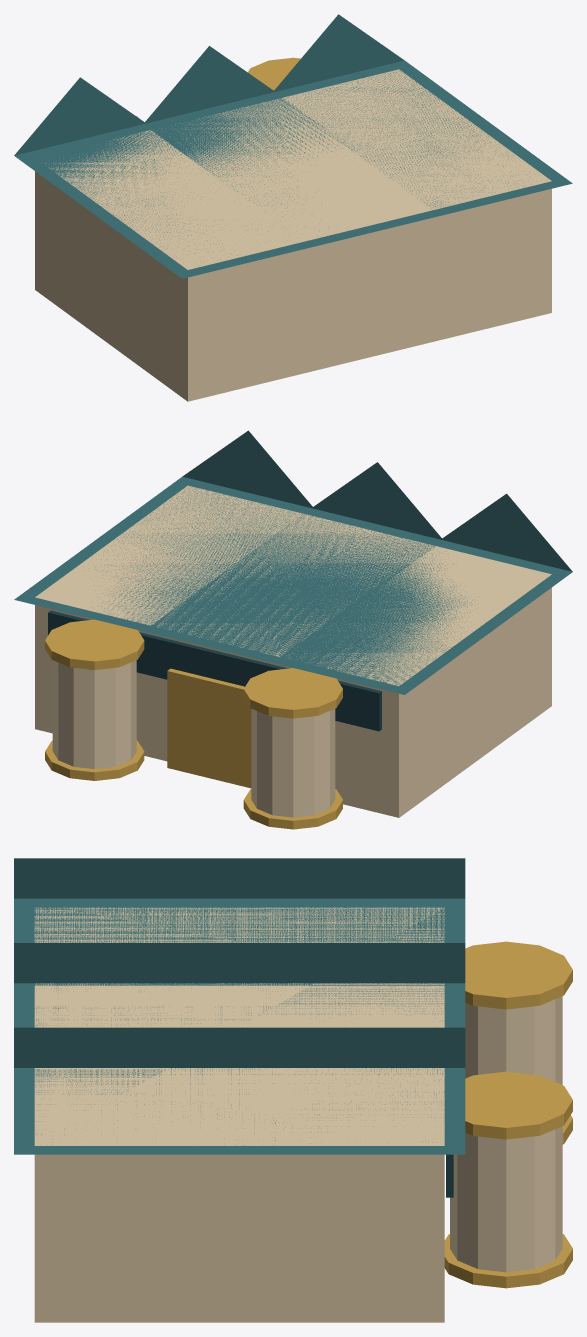
File: weaving_mill_01.glb
The picture shows the model from 3 angles, top to bottom: view 1: azimuth 30°, elevation 25°; view 2: azimuth 150°, elevation 25°; view 3: azimuth 270°, elevation 25°; orthographic projection. The views are drawn at different scales.
Parts seen in each view (by area): view 1: Weaving mill; view 2: Weaving mill; view 3: Weaving mill.
Boxes of the visible parts, x1,y1,x2,y2 form: Weaving mill: (14,14,572,401); Weaving mill: (14,430,572,829); Weaving mill: (14,858,572,1322).
Size of the model in its own units: 11.8 by 5.6 by 10.9.
1 material, 1 textured.
